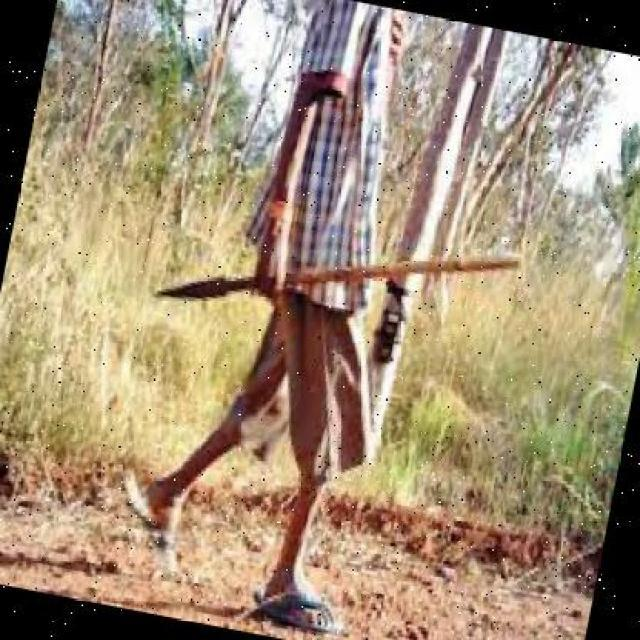p_robo: (138, 244, 556, 300)
poacher: (99, 6, 506, 560)
